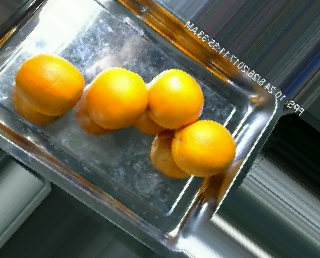Orange: (15, 53, 84, 116), (83, 68, 148, 129), (170, 118, 236, 177), (145, 68, 205, 131)
